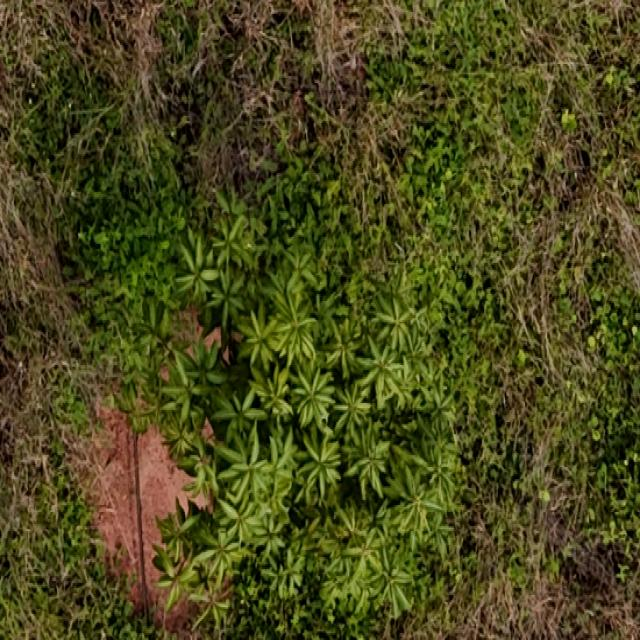mangoTree: (118, 205, 470, 634)
